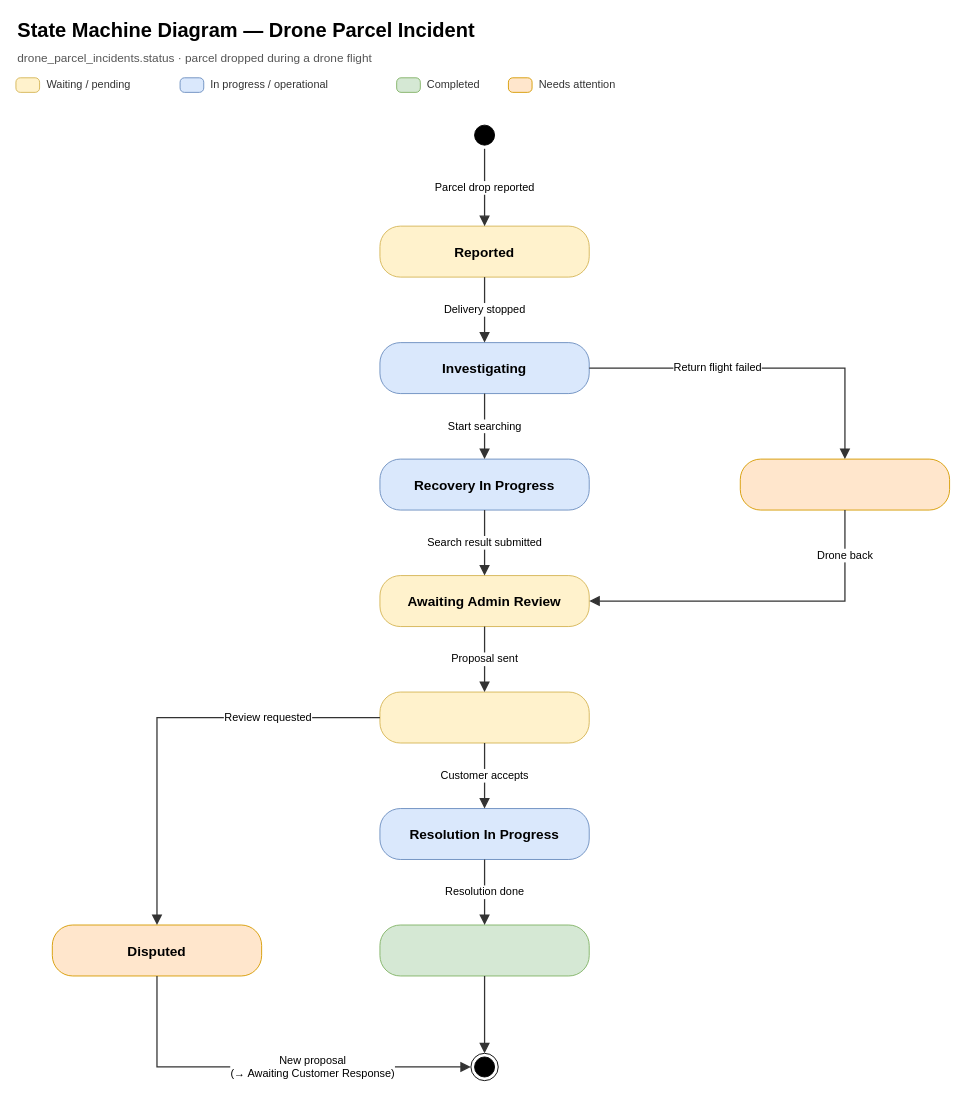
The diagram is 966 pixels wide and 1097 high, and some of its shapes have lost their labels. The centre of each missing label's shape, as x and y in pixels:
"Awaiting Customer Response" belongs at (484,717).
"Manual Intervention Required" belongs at (844,484).
"Resolved" belongs at (484,950).
